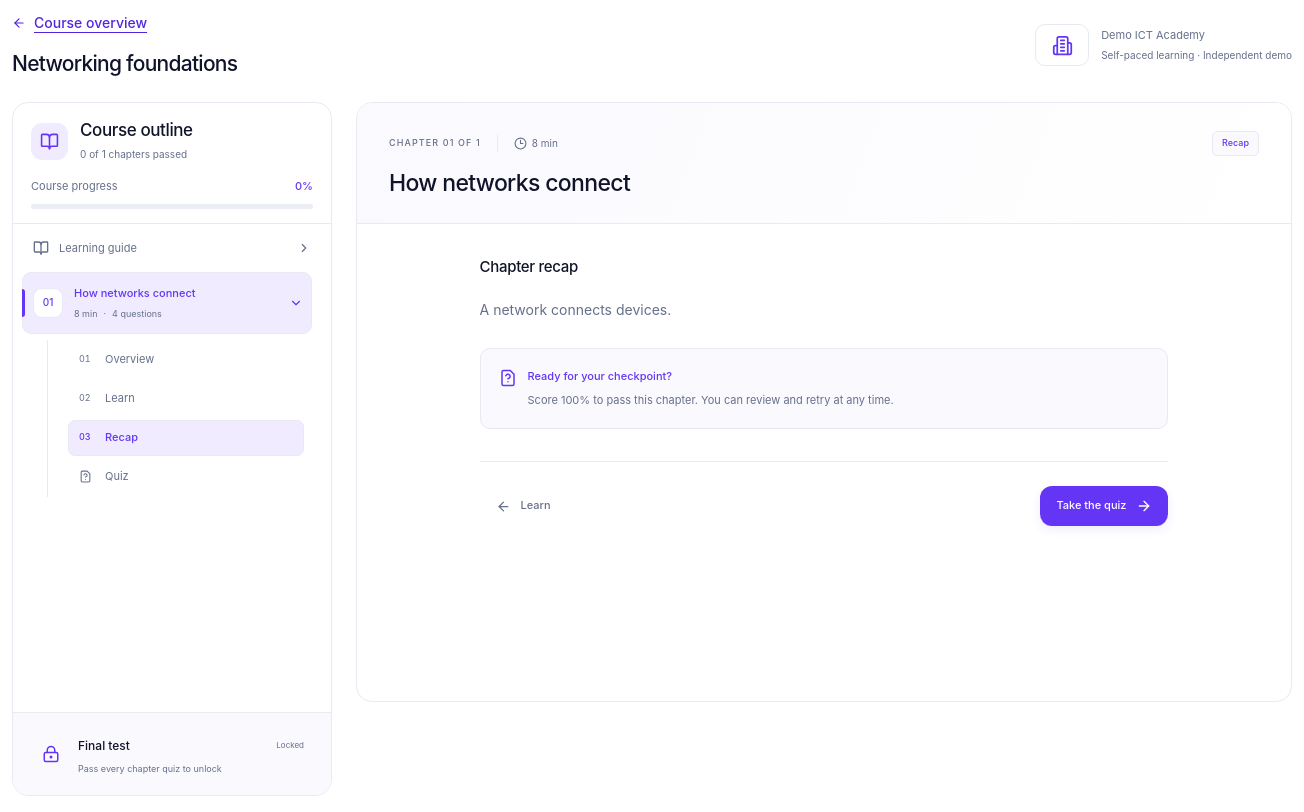
it: hosted learning navigation and system profile › lets the selected chapter collapse and reopen without resetting the current lesson
Step 1. Click the button "01 How networks connect 8 min · 4 questions" → point(167, 303), box top-left (22, 272), bottom-right (312, 334)
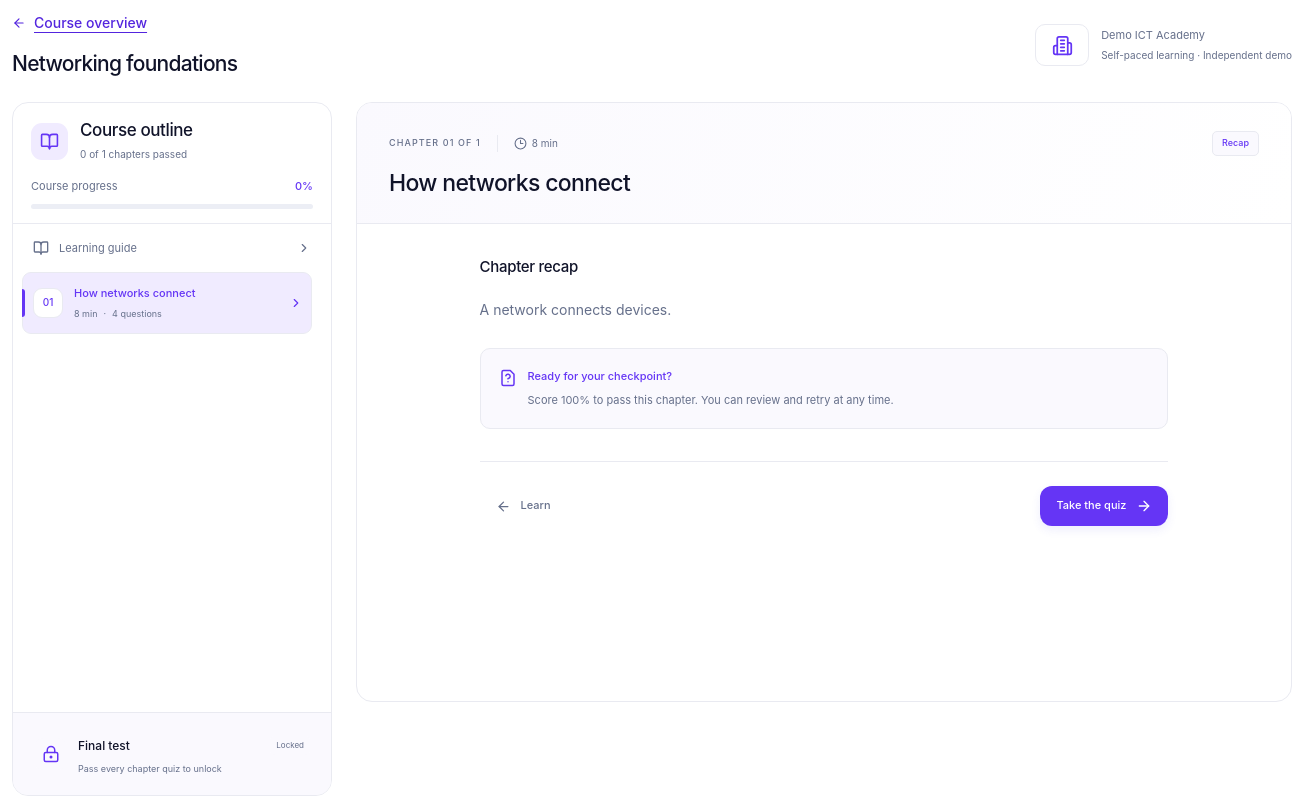
Expected: the heading "Chapter recap" is shown, top-left (480, 257), bottom-right (578, 276)
Expected: the button "01 How networks connect 8 min · 4 questions" is collapsed
Step 2. Click the button "01 How networks connect 8 min · 4 questions" → point(167, 303), box top-left (22, 272), bottom-right (312, 334)
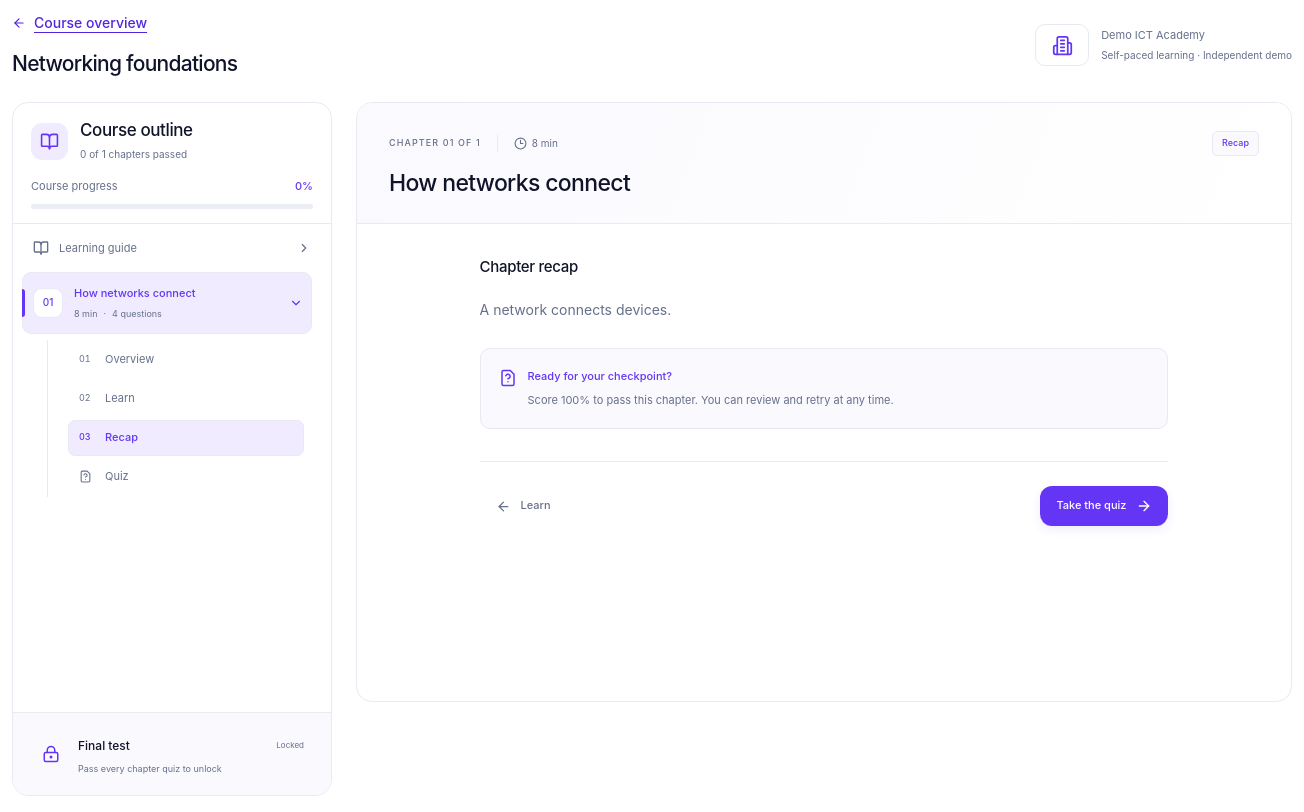
Expected: the button "01 How networks connect 8 min · 4 questions" is expanded, top-left (22, 272), bottom-right (312, 334)
